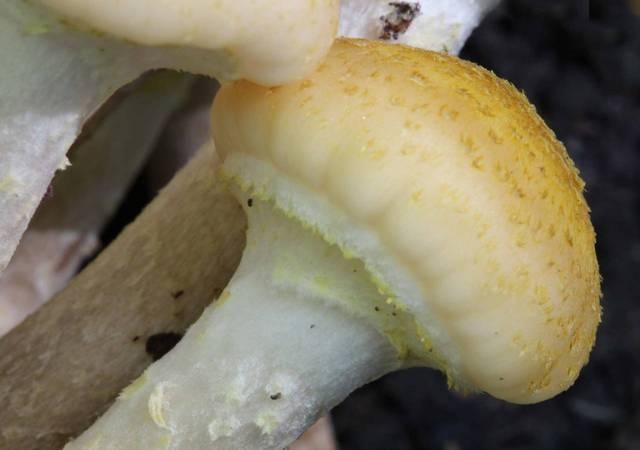edible_mushroom: (56, 34, 604, 449)
